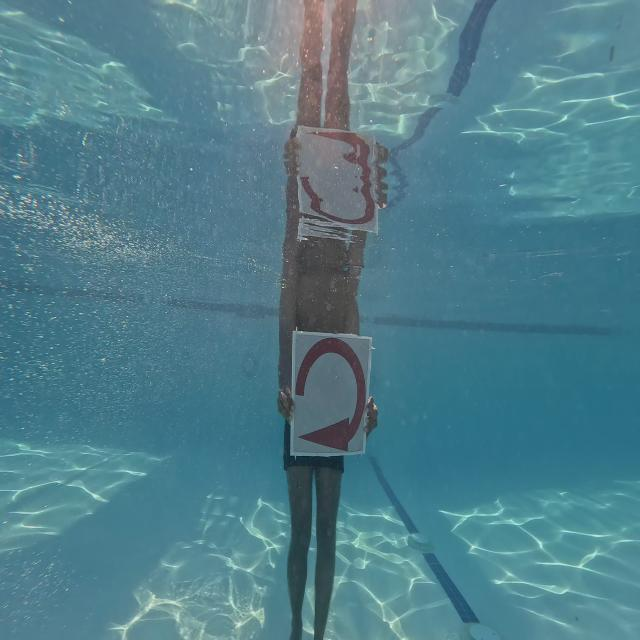red_side: (289, 333, 370, 468)
